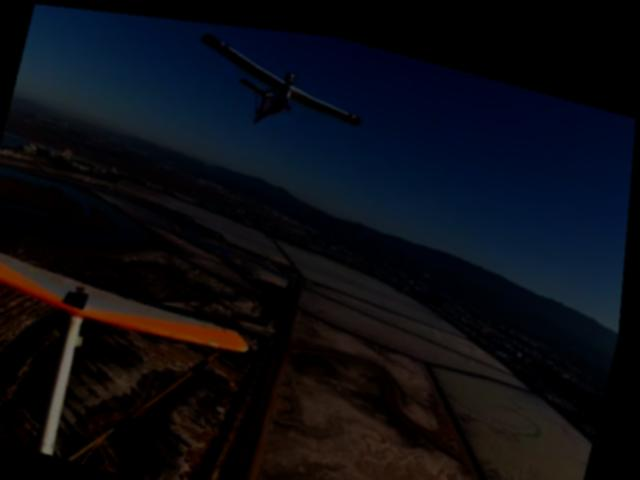uav: (178, 16, 381, 150)
